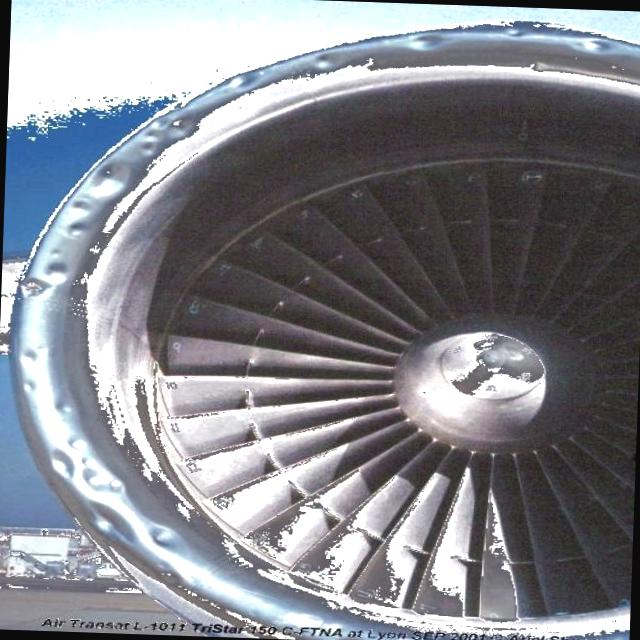dent: (1, 342, 196, 594), (37, 154, 131, 291)
